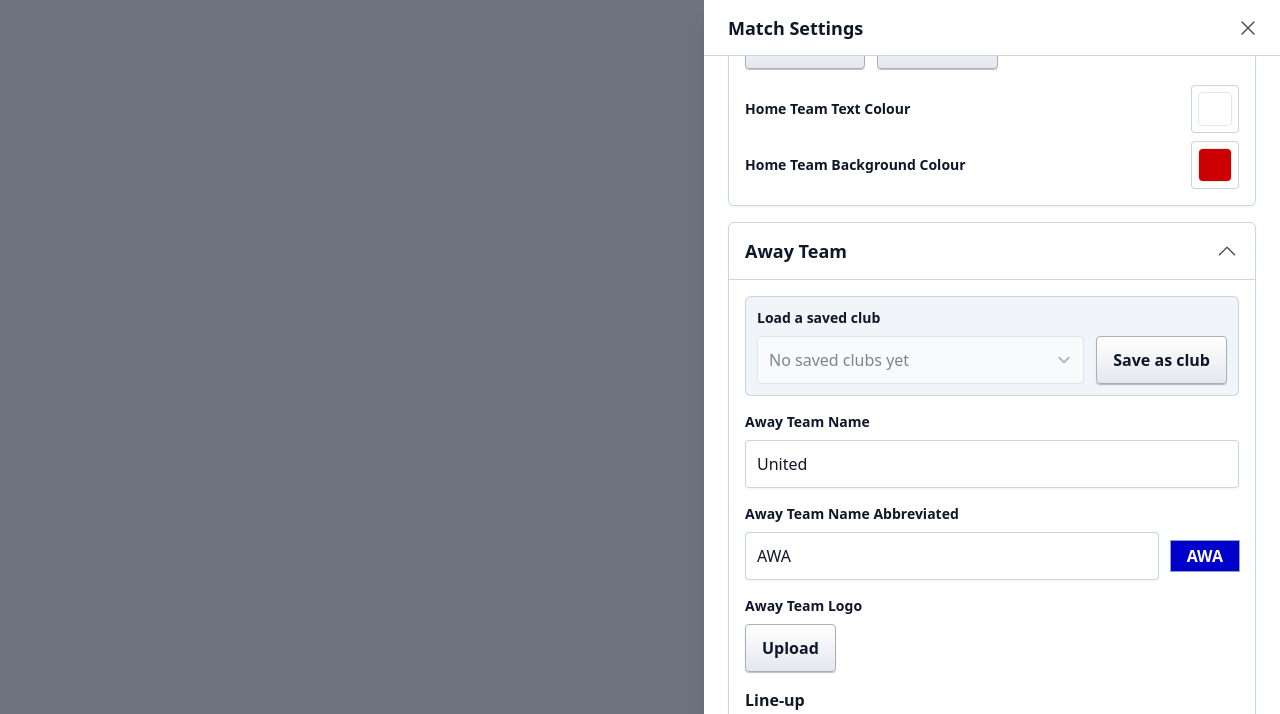
Test: Club presets › keeps the list unchanged and says so when saving fails
(page scrolled)
Click the button "Save as club" at (1162, 360), box [1096,336,1227,384]
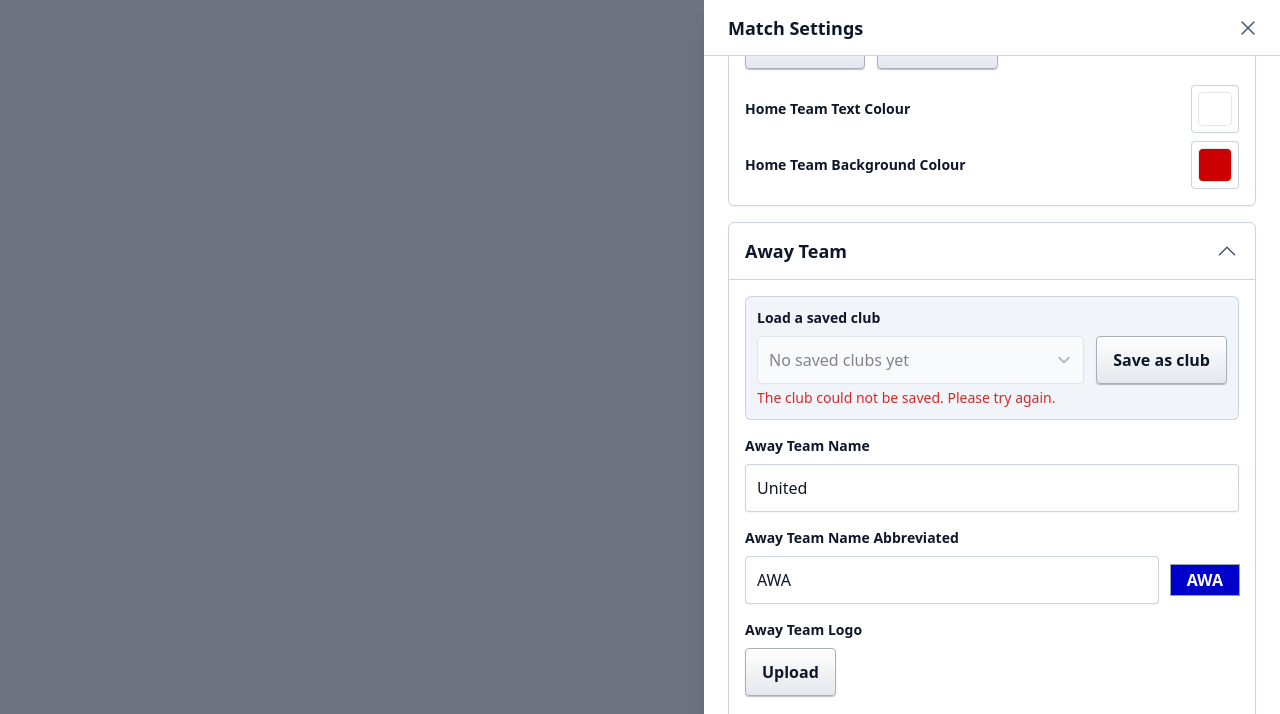
Expected: the text "The club could not be saved. Please try again." is shown, [757,388,1056,407]
